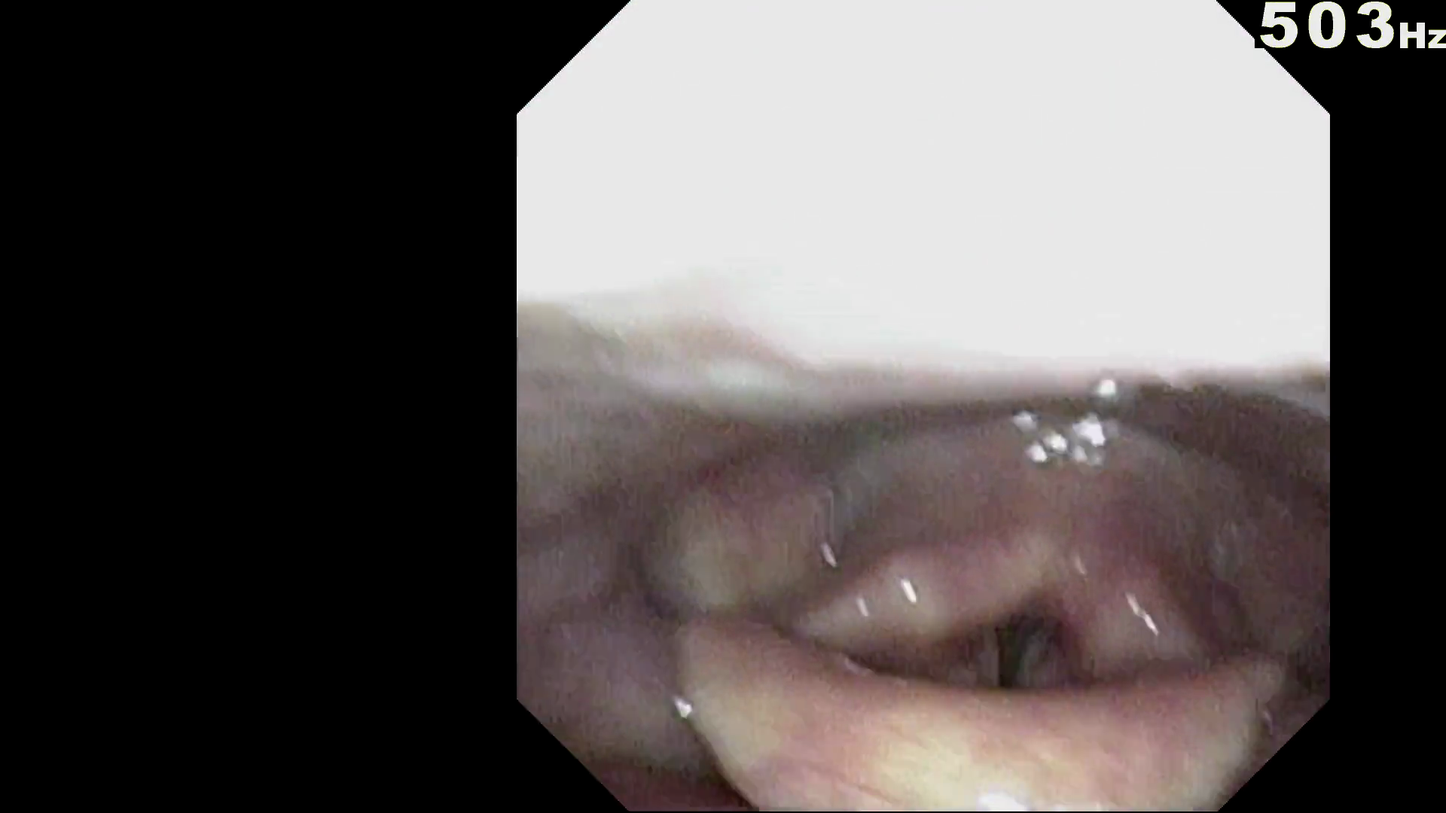epiglottis: (648, 415, 1263, 639)
